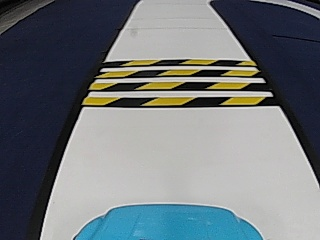bump: (106, 58, 246, 111)
